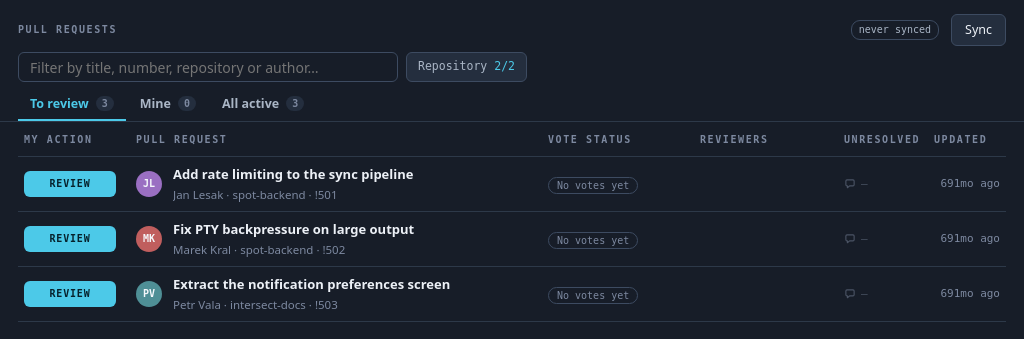
it: PrBoard filtering › typing letters scattered through a title leaves only that pull request
# "xtnotif" is nowhere in the board as a run of characters.
Type "xtnotif" into the search field with test id "pr-filter". click: (208, 67)
box: [18,52,398,82]
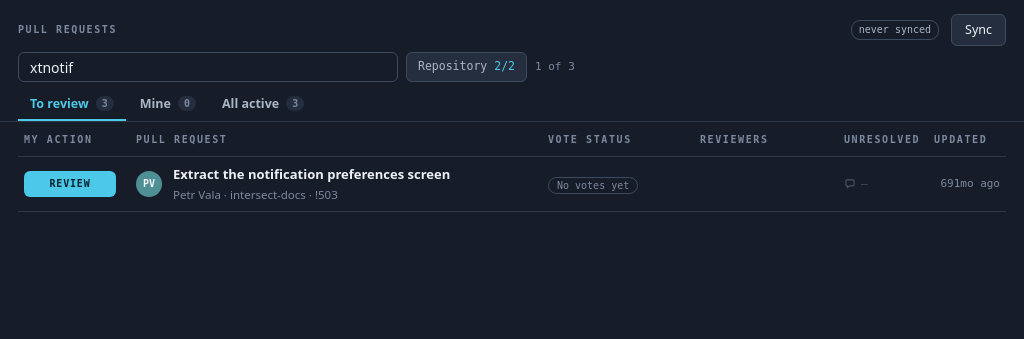
Expected: the text "1 of 3" is shown, [535,58,575,76]
